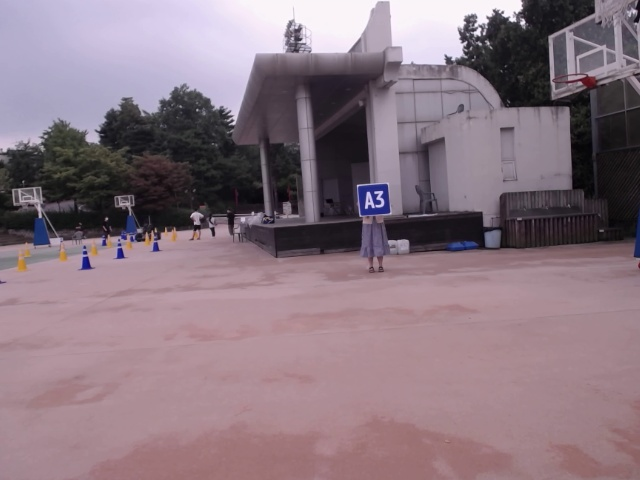delivery_a3: (356, 183, 392, 216)
